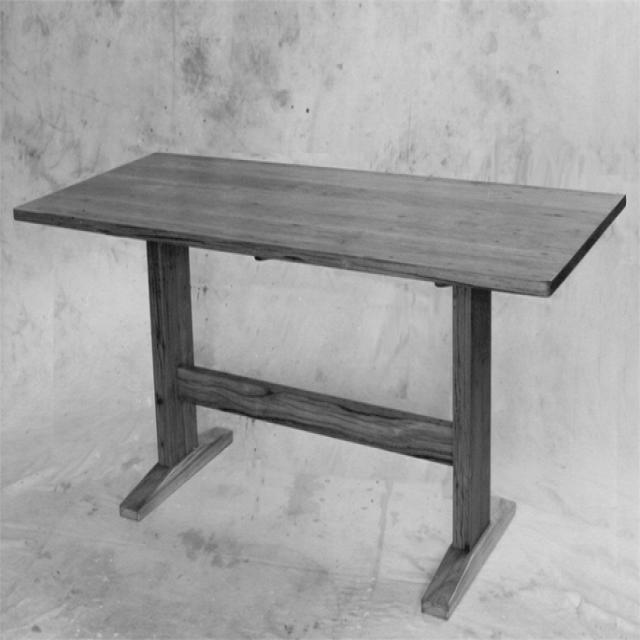table: (12, 151, 624, 618)
